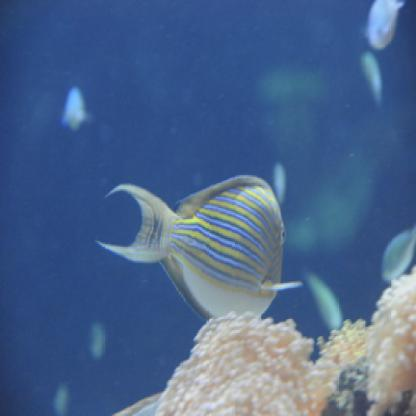surgeon: (98, 160, 288, 328)
